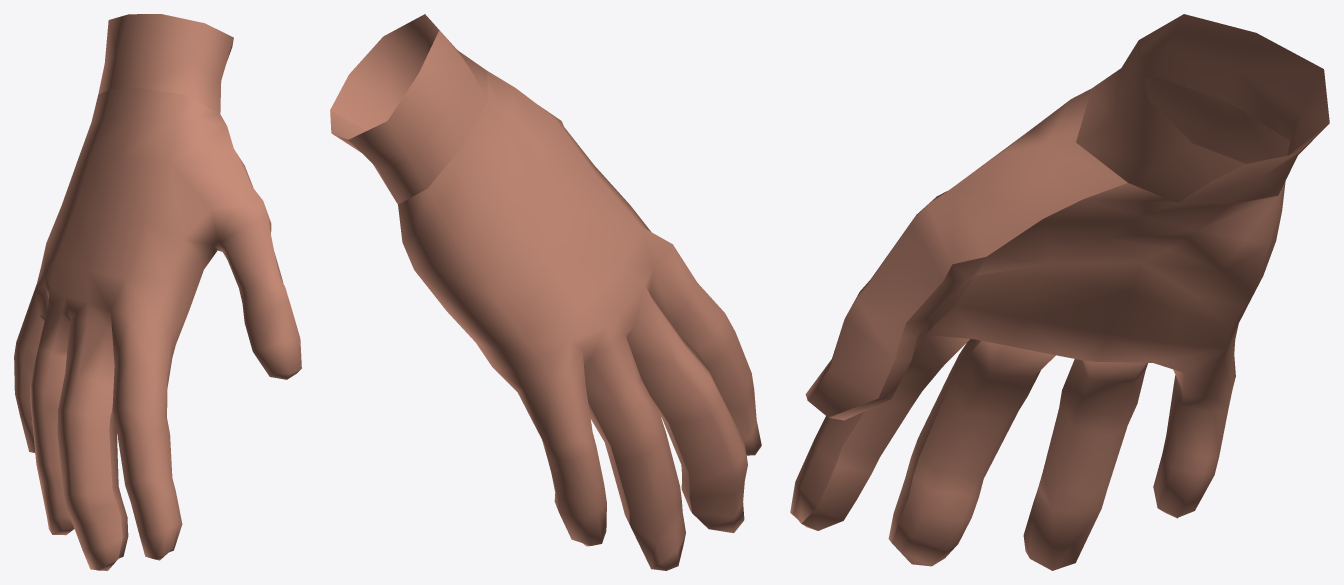
File: mano_der.obj
The picture shows the model from 3 angles, left to right: view 1: azimuth 30°, elevation 25°; view 2: azimuth 150°, elevation 25°; view 3: azimuth 270°, elevation 25°; orthographic projection. The views are drawn at different scales.
Parts seen in each view (by area): view 1: node_id794; view 2: node_id794; view 3: node_id794.
Boxes of the visible parts, x1,y1,x2,y2 form: node_id794: (14,14,301,570); node_id794: (330,14,761,570); node_id794: (790,14,1329,570).
Size of the model in its own units: 0.123 by 0.2153 by 0.1605.
1 material, 1 textured.
